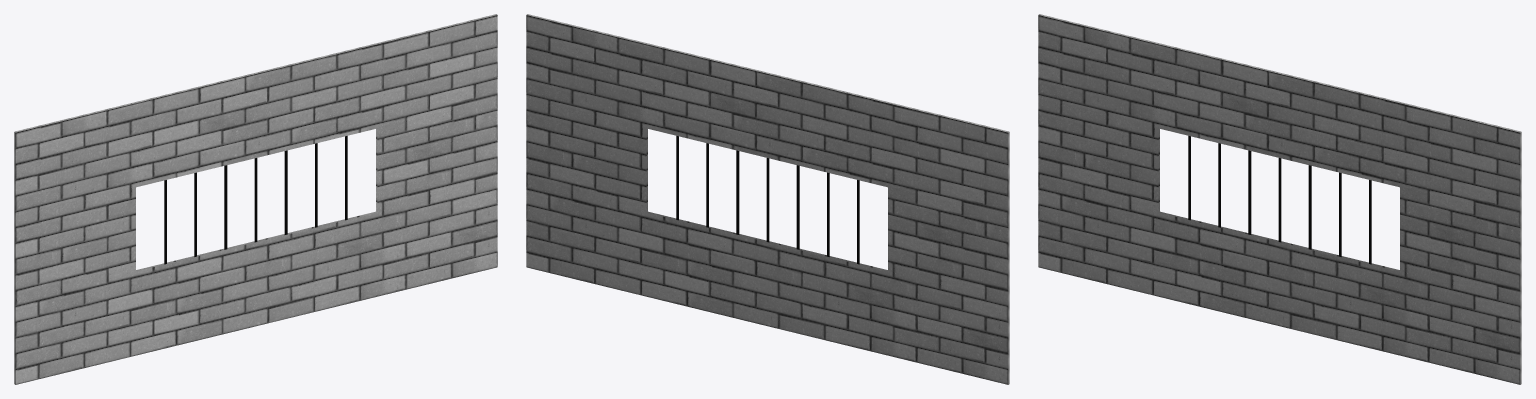
Rendered from W200_Bricks_Window.FBX.
The picture shows the model from 3 angles, left to right: view 1: azimuth 30°, elevation 25°; view 2: azimuth 150°, elevation 25°; view 3: azimuth 330°, elevation 25°; orthographic projection.
Visible parts, largest first — view 1: Box001; view 2: Box001; view 3: Box001.
Part boxes in pixels (x1,y1,x2,y2): Box001: [14, 14, 497, 384]; Box001: [526, 14, 1009, 384]; Box001: [1038, 14, 1521, 384].
Bounding box in the file's own units: 200 × 100 × 1.
2 materials, 2 textured.
